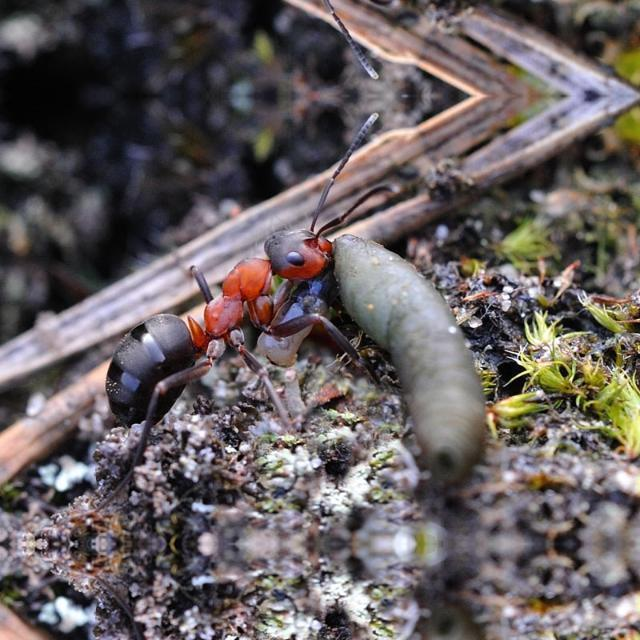Formica: (86, 209, 364, 411)
